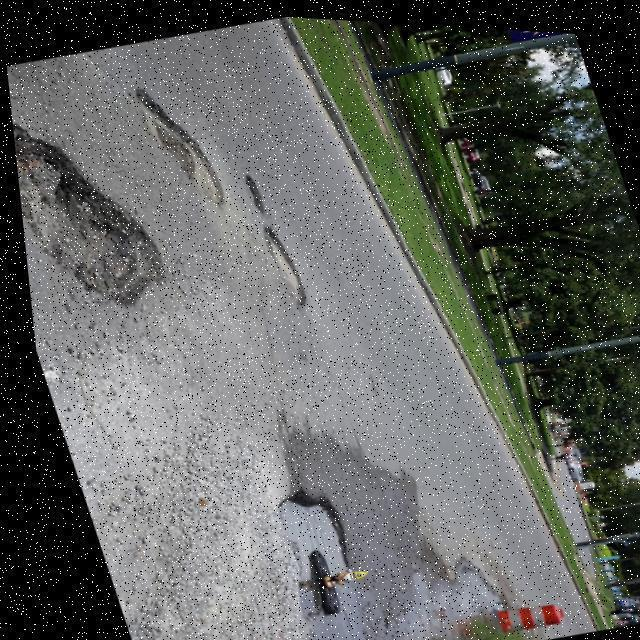Pothole: (17, 126, 164, 303), (278, 488, 362, 623), (135, 89, 224, 205), (264, 225, 305, 304), (245, 175, 265, 214)
